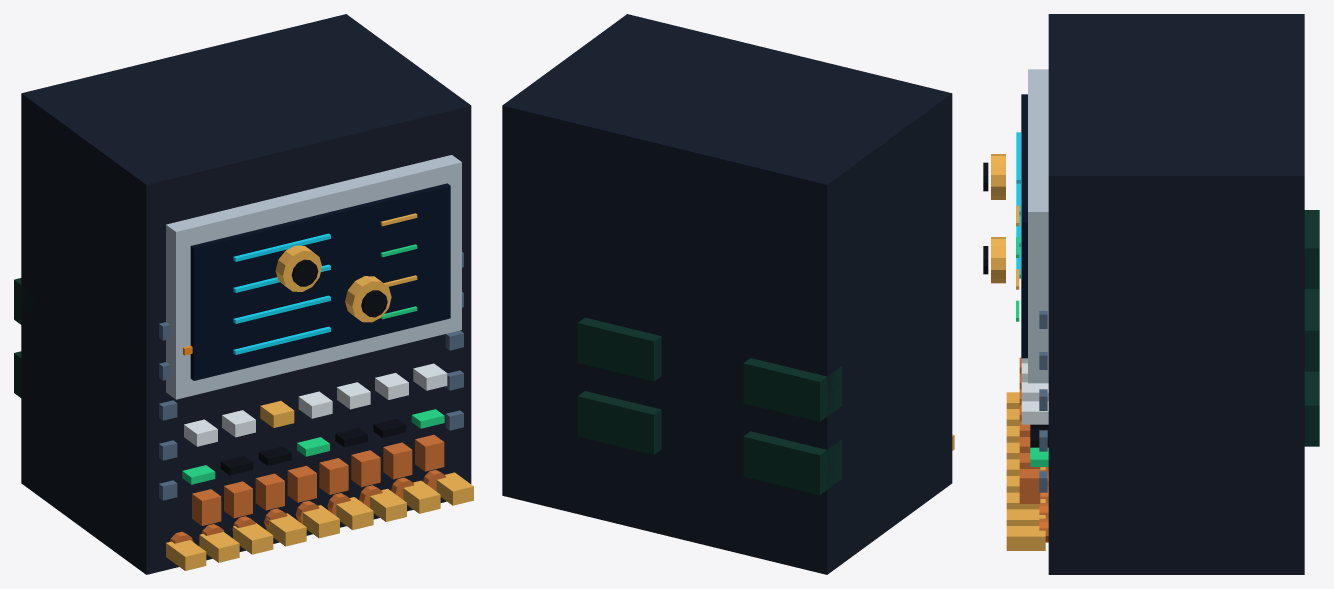
Rendered from 75_L91_AutonomousFlightSafetyPLC.fbx.
3 views of the same model, side by side, from view 1: azimuth 30°, elevation 25°; view 2: azimuth 150°, elevation 25°; view 3: azimuth 270°, elevation 25° (orthographic). The views are drawn at different scales.
Visible parts, largest first — view 1: L91_AutonomousFlightSafetyPLC, L91_AutonomousFlightSafetyPLC_Part_0015, L91_AutonomousFlightSafetyPLC_Part_0013; view 2: L91_AutonomousFlightSafetyPLC; view 3: L91_AutonomousFlightSafetyPLC, L91_AutonomousFlightSafetyPLC_Part_0015, L91_AutonomousFlightSafetyPLC_Part_0013.
Boxes of the visible parts, box(x1,y1,x2,y2) form: L91_AutonomousFlightSafetyPLC: box(14, 14, 473, 574); L91_AutonomousFlightSafetyPLC_Part_0015: box(345, 276, 391, 322); L91_AutonomousFlightSafetyPLC_Part_0013: box(275, 245, 321, 291); L91_AutonomousFlightSafetyPLC: box(502, 14, 954, 574); L91_AutonomousFlightSafetyPLC: box(1006, 14, 1319, 574); L91_AutonomousFlightSafetyPLC_Part_0015: box(991, 237, 1005, 283); L91_AutonomousFlightSafetyPLC_Part_0013: box(991, 154, 1005, 199).
Size of the model in its own units: 108 by 123 by 94.29.
